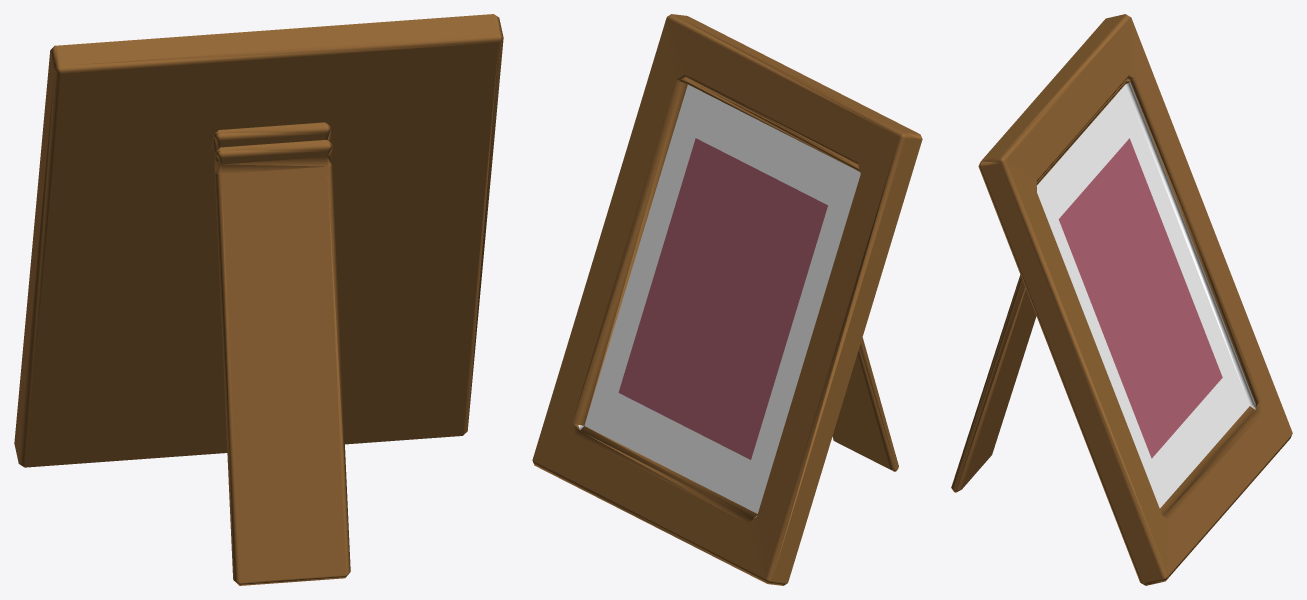
The model's file is bukuShelf6.obj.
The picture shows the model from 3 angles, left to right: view 1: azimuth 30°, elevation 25°; view 2: azimuth 150°, elevation 25°; view 3: azimuth 270°, elevation 25°; orthographic projection. The views are drawn at different scales.
Visible parts, largest first — view 1: Photo_frame.001_Cube.019; view 2: Photo_frame.001_Cube.019; view 3: Photo_frame.001_Cube.019.
Part boxes in pixels (left/top/right/bottom): Photo_frame.001_Cube.019: left=14, top=14, right=503, bottom=585; Photo_frame.001_Cube.019: left=532, top=14, right=922, bottom=585; Photo_frame.001_Cube.019: left=951, top=14, right=1292, bottom=585.
Size of the model in its own units: 0.3596 by 0.3899 by 0.297.
